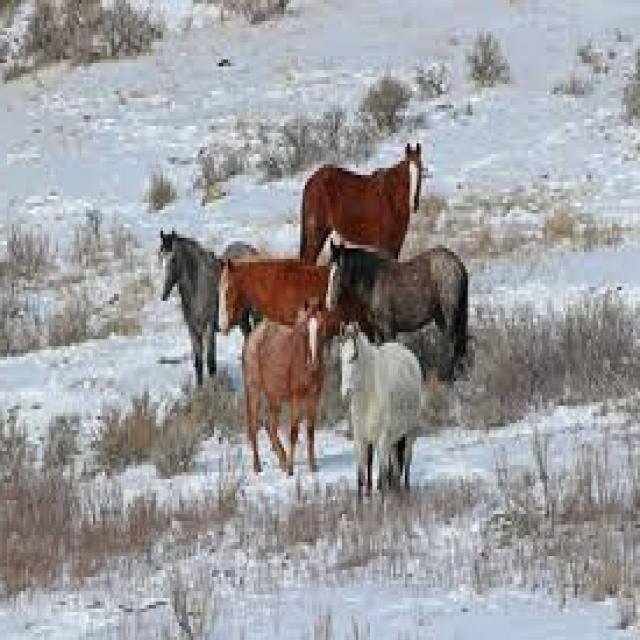horse: (331, 314, 427, 522), (323, 231, 473, 351), (240, 288, 329, 488), (292, 137, 427, 267), (147, 222, 226, 388), (214, 255, 322, 344)
